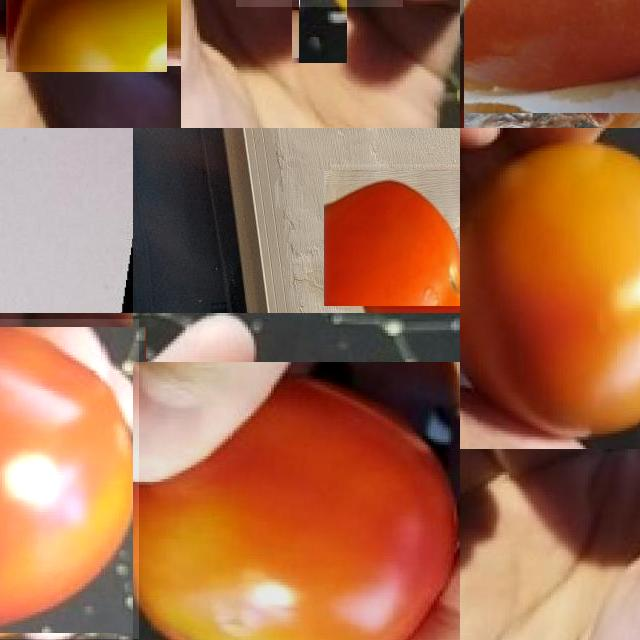0: (133, 362, 460, 640), (0, 319, 139, 639), (326, 167, 460, 309)
Fresh Tomato: (460, 128, 640, 448)
Rotten Tomato: (464, 0, 640, 128), (0, 0, 174, 65)
